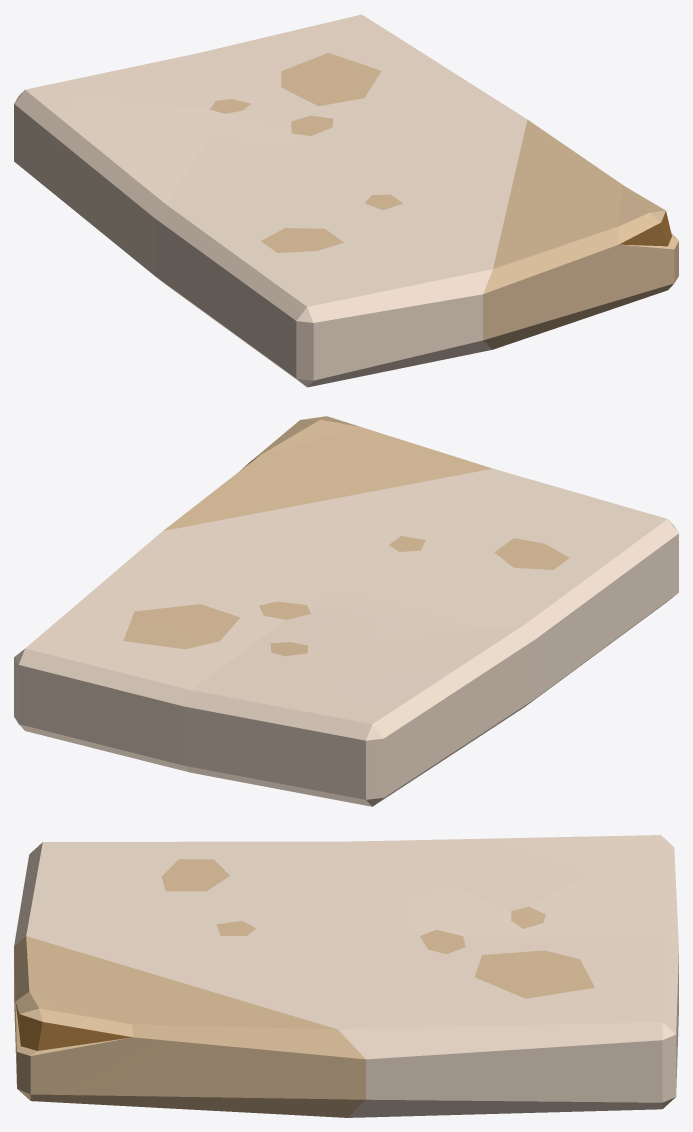
The model's file is apocalypse_mattress-large-dirt.fbx.
The picture shows the model from 3 angles, top to bottom: view 1: azimuth 30°, elevation 25°; view 2: azimuth 150°, elevation 25°; view 3: azimuth 270°, elevation 25°; orthographic projection. The views are drawn at different scales.
Parts seen in each view (by area): view 1: apocalypse_mattress_large_dirt; view 2: apocalypse_mattress_large_dirt; view 3: apocalypse_mattress_large_dirt.
Part boxes in pixels (left/top/right/bottom): apocalypse_mattress_large_dirt: left=14, top=14, right=678, bottom=387; apocalypse_mattress_large_dirt: left=14, top=416, right=678, bottom=806; apocalypse_mattress_large_dirt: left=14, top=835, right=678, bottom=1117.
Bounding box in the file's own units: 142 × 33.44 × 200.
